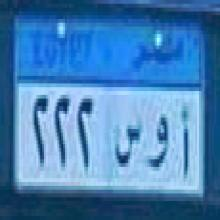2: (75, 92, 98, 180), (51, 88, 72, 176), (30, 87, 50, 173)
alif: (178, 103, 193, 182)
seen: (115, 112, 143, 177)
waw: (147, 112, 170, 182)
